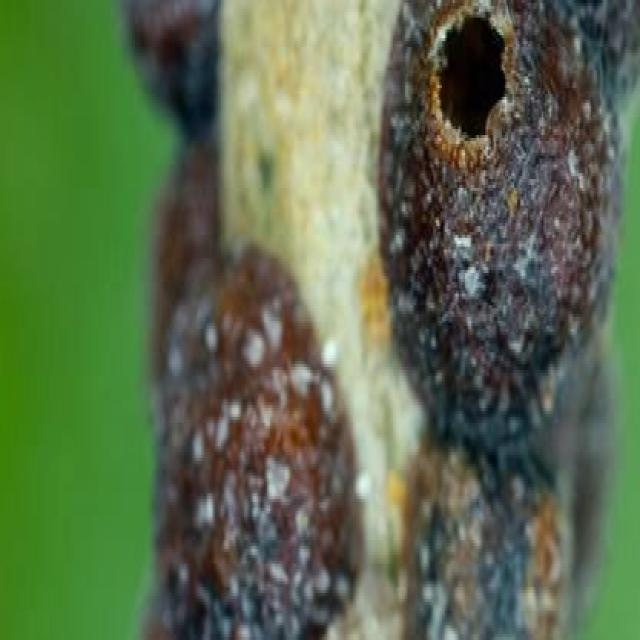Black Scale: (381, 0, 638, 467), (158, 247, 361, 637)
